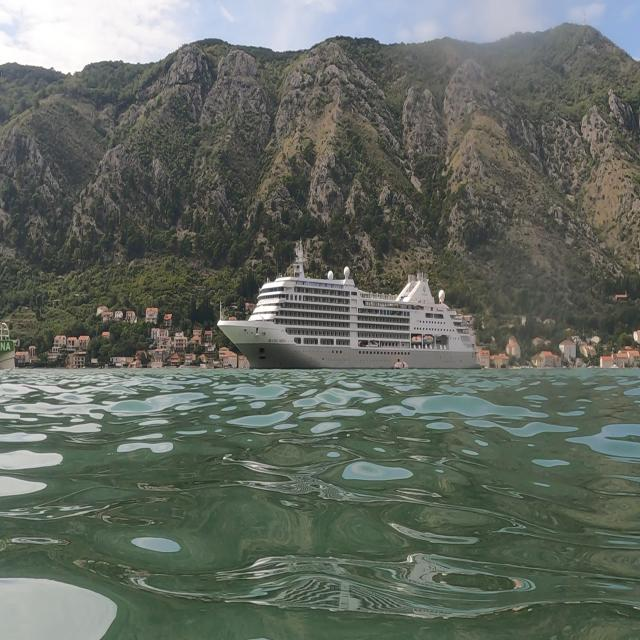boat: (215, 235, 483, 373)
